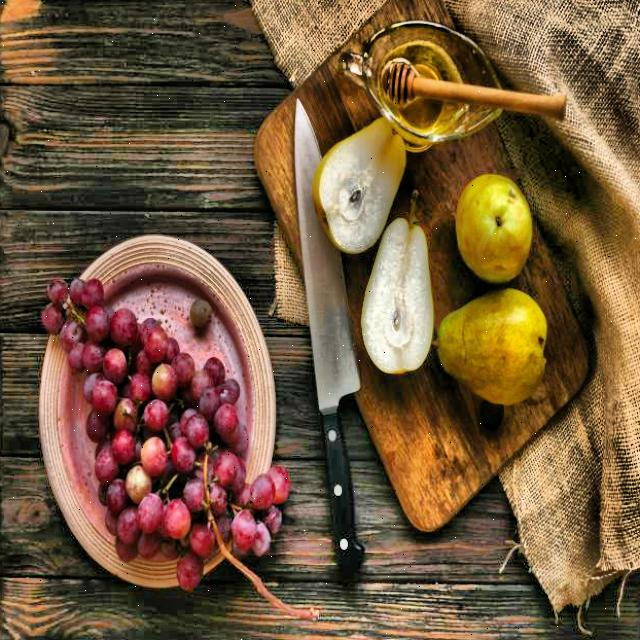knife: (284, 86, 388, 598)
